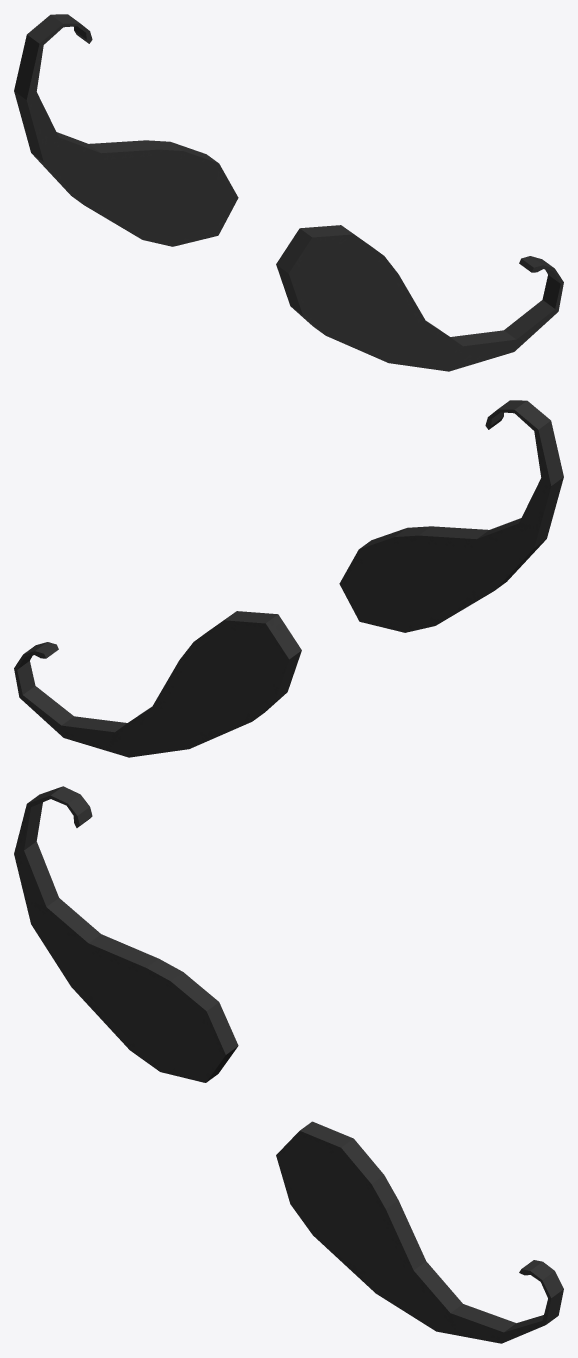
The model's file is Huzi.FBX.
3 views of the same model, one above another, from view 1: azimuth 30°, elevation 25°; view 2: azimuth 150°, elevation 25°; view 3: azimuth 330°, elevation 25° (orthographic).
Visible parts, largest first — view 1: Object027; view 2: Object027; view 3: Object027.
Boxes of the visible parts, <box> form: Object027: <box>14,14,563,371</box>; Object027: <box>14,400,563,757</box>; Object027: <box>14,786,563,1343</box>.
Size of the model in its own units: 6.74 by 5.3 by 0.2765.
Materials: 1 (1 with a texture image).
